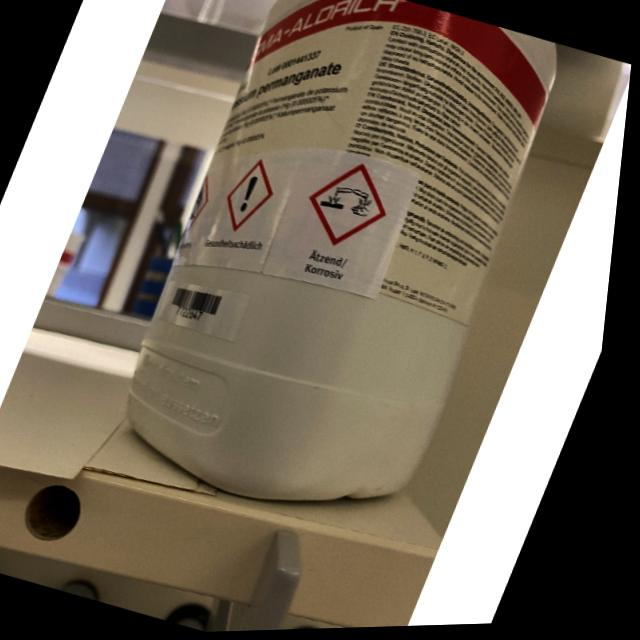corrosive: (296, 152, 409, 261)
health-ozone layer hazard: (218, 153, 289, 239)
